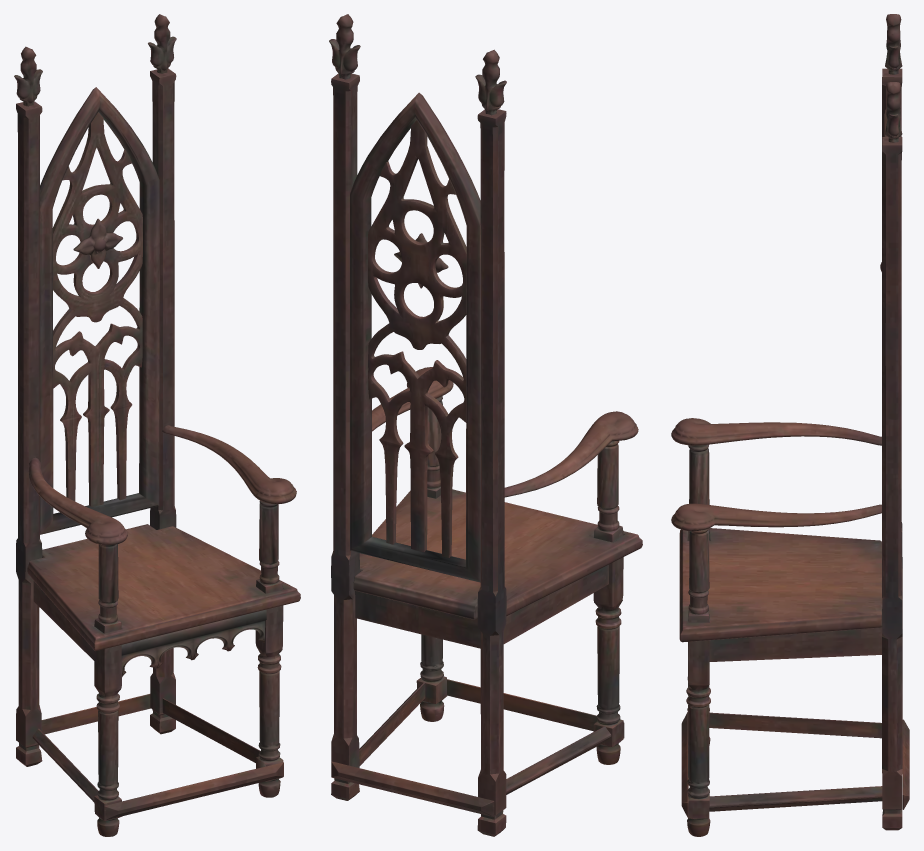
File: WoodenChair_01.glb
3 views of the same model, side by side, from view 1: azimuth 30°, elevation 25°; view 2: azimuth 150°, elevation 25°; view 3: azimuth 270°, elevation 25° (orthographic). The views are drawn at different scales.
Visible parts, largest first — view 1: WoodenChair_01; view 2: WoodenChair_01; view 3: WoodenChair_01.
Part boxes in pixels (bbox=[...]): WoodenChair_01: bbox=[14, 14, 300, 836]; WoodenChair_01: bbox=[329, 14, 642, 836]; WoodenChair_01: bbox=[671, 14, 909, 836].
Size of the model in its own units: 0.6881 by 2.27 by 0.6584.
Materials: 1 (1 with a texture image).
